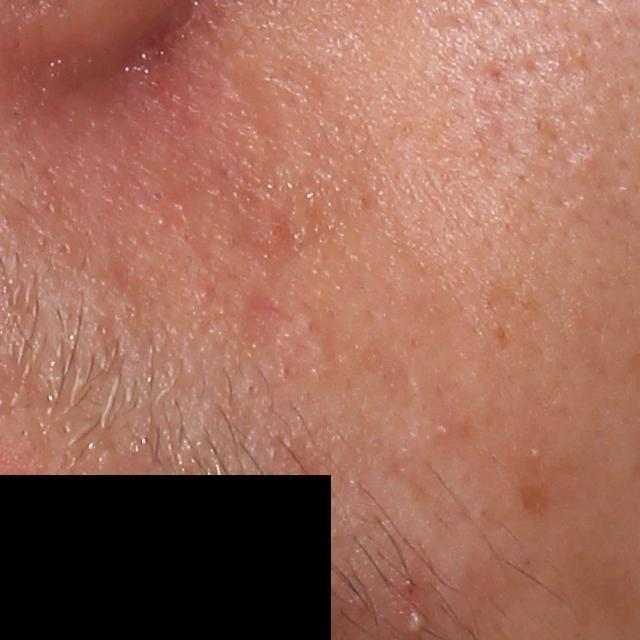pustule: (401, 595, 432, 639)
